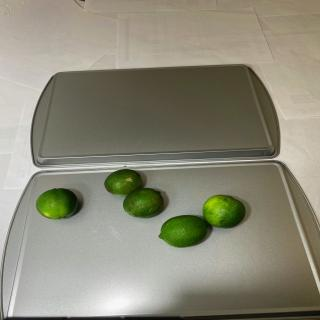Apple: (36, 188, 78, 219)
Lemon: (158, 215, 208, 248), (202, 194, 246, 229), (123, 188, 164, 218), (104, 169, 142, 196)
